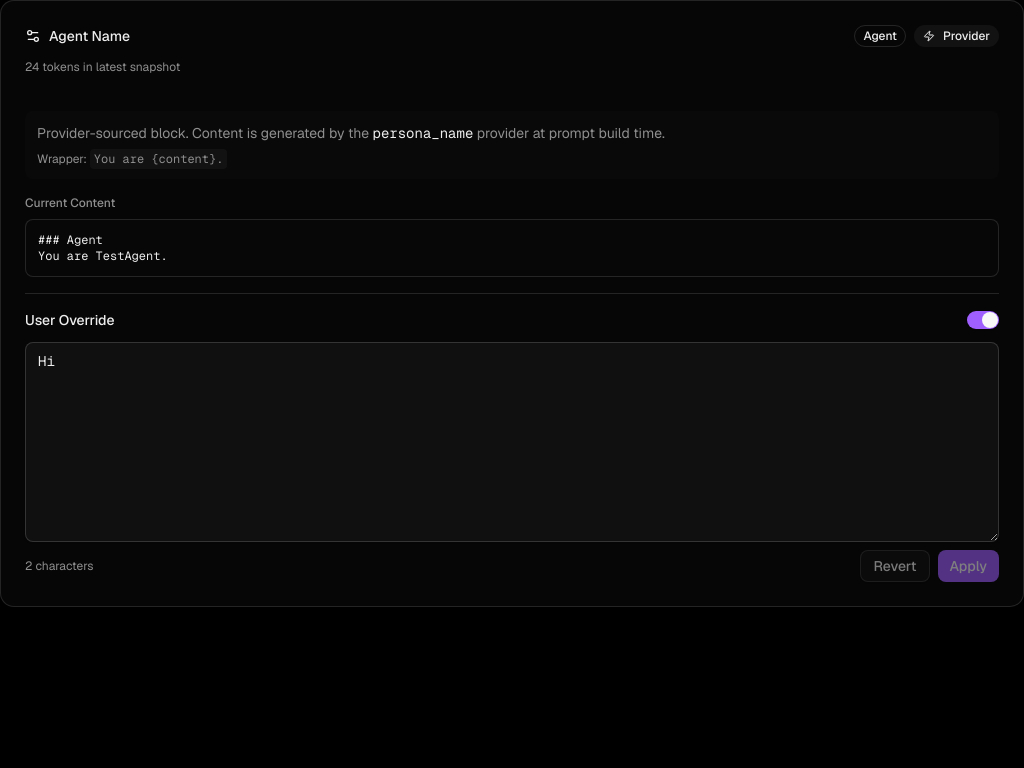
Test: BlockDetail › override editor › should update character count on input
Step 1. Replace the text in the text box with placeholder "Enter override content for this block..." with "Hello World" → [512, 442], box [25,342,999,542]
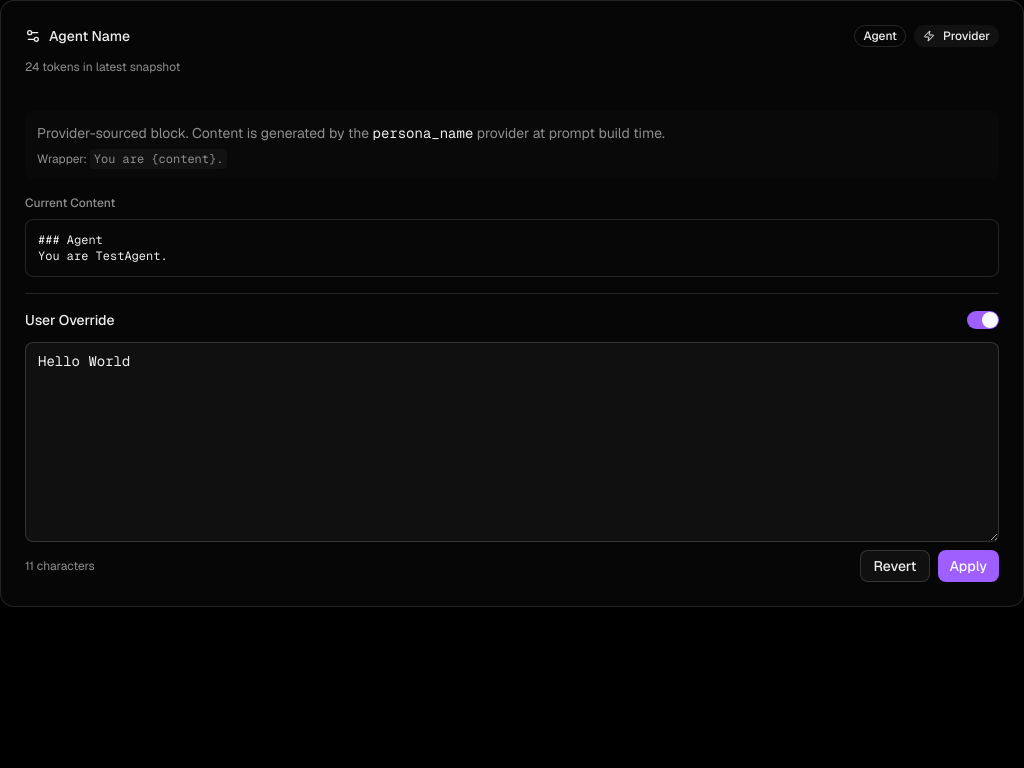
Result: the text "11 characters" is shown at [25,558,95,574]
